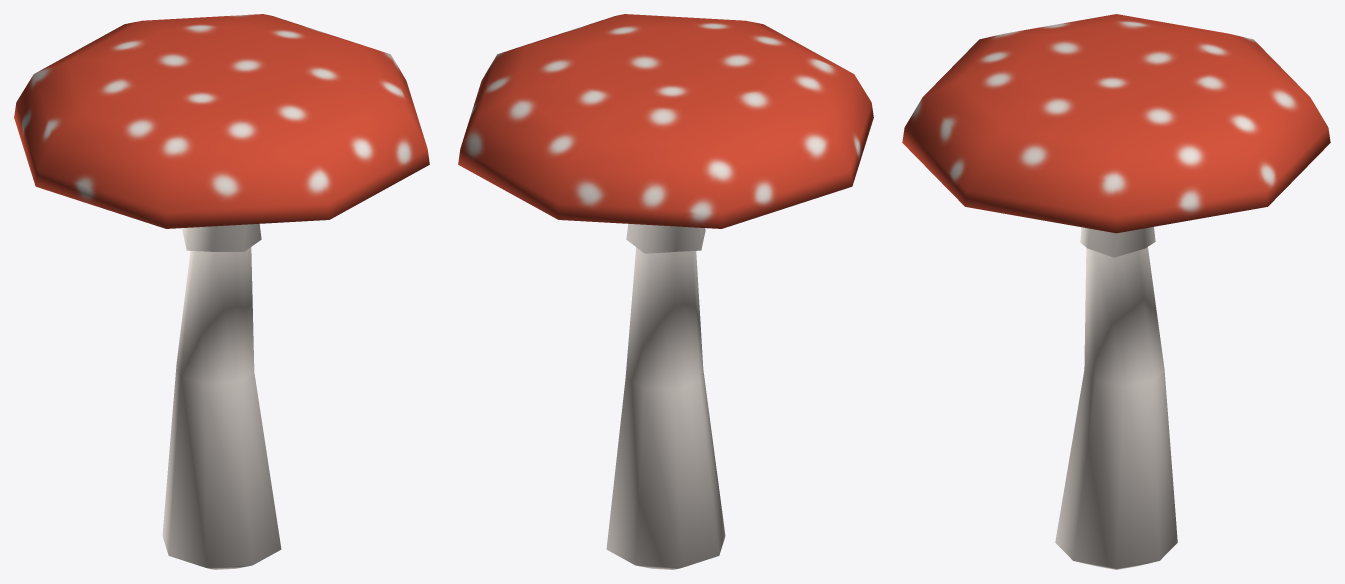
File: ToadstoolMushroom.fbx
3 views of the same model, side by side, from view 1: azimuth 30°, elevation 25°; view 2: azimuth 150°, elevation 25°; view 3: azimuth 270°, elevation 25° (orthographic).
Visible parts, largest first — view 1: SM_flyagaric; view 2: SM_flyagaric; view 3: SM_flyagaric.
Part boxes in pixels (x1,y1,x2,y2): SM_flyagaric: [14, 14, 429, 569]; SM_flyagaric: [458, 14, 873, 569]; SM_flyagaric: [902, 14, 1330, 569].
Bounding box in the file's own units: 90.75 × 114 × 90.75.
